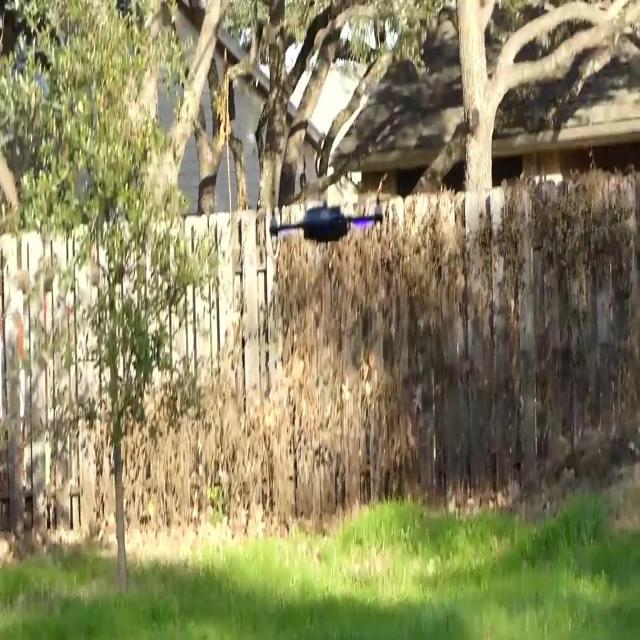UAV: (270, 200, 382, 250)
